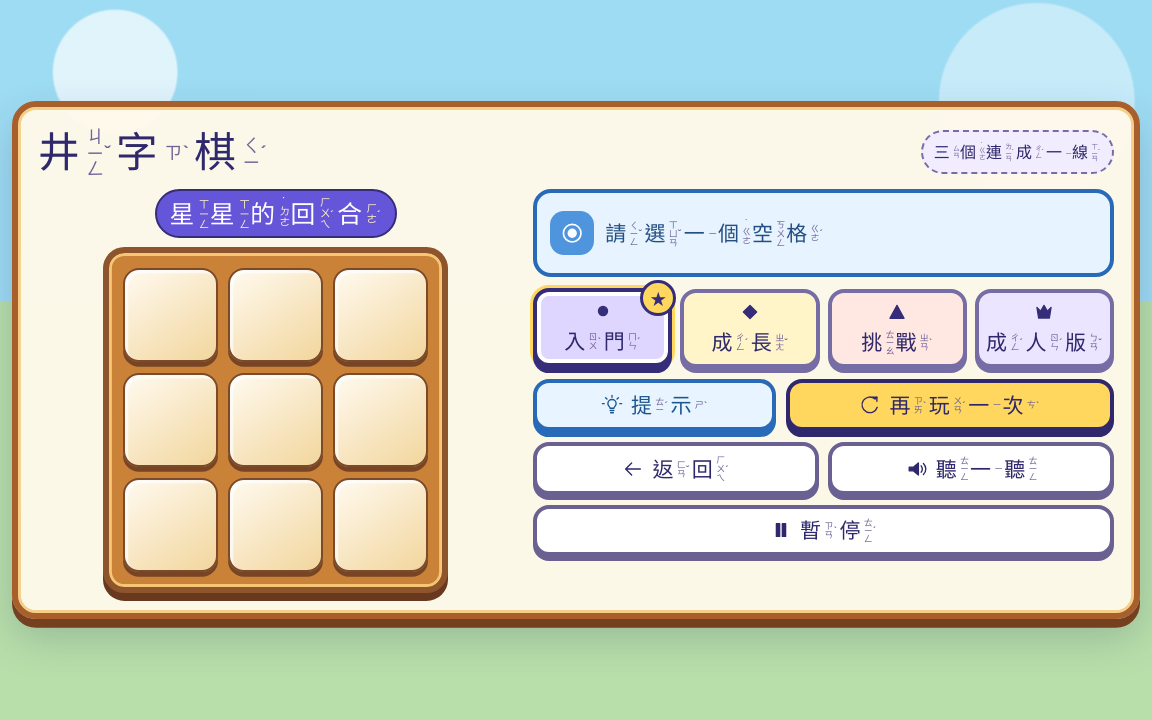
Test: ART-005-r03 井字棋正式可玩流程 › 提示依序重述、指出區域並標出候選格，但不代替落子
The width and height of the screenshot is (1152, 720).
Click the button named "提示": (655, 405) [533,379,776,431]
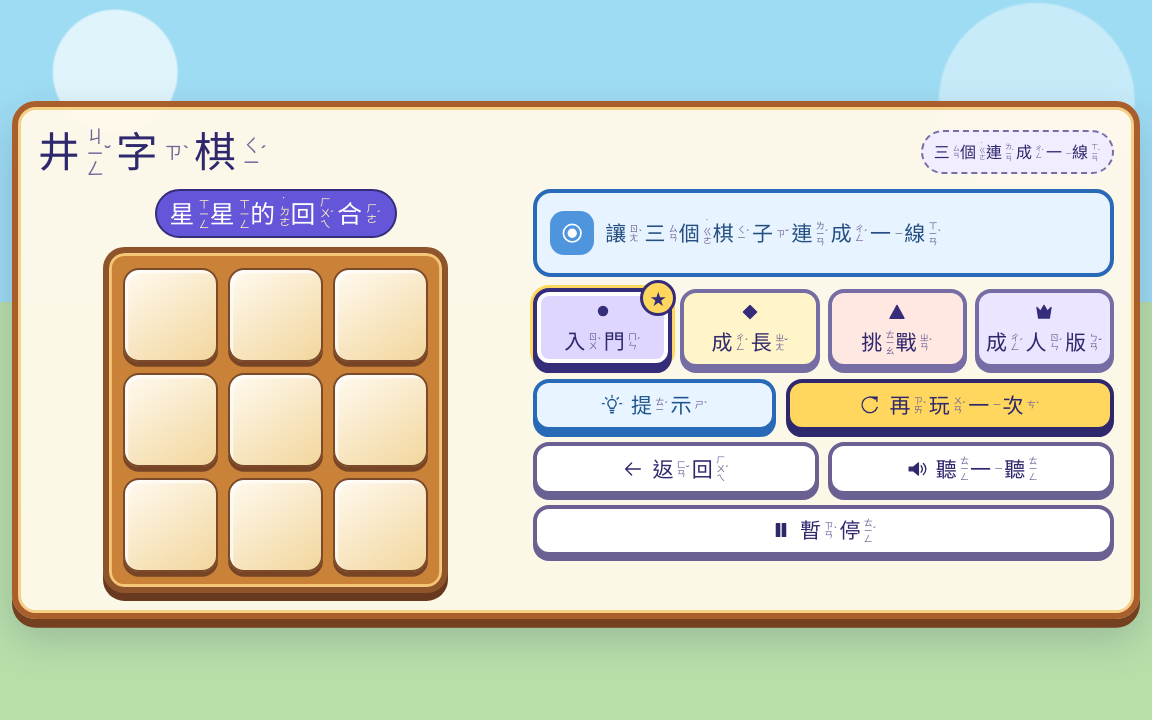
Check: the element named "讓三個棋子連成一線" is shown, box [605,217,941,247]
Click the button named "提示": (655, 405) [533,379,776,431]
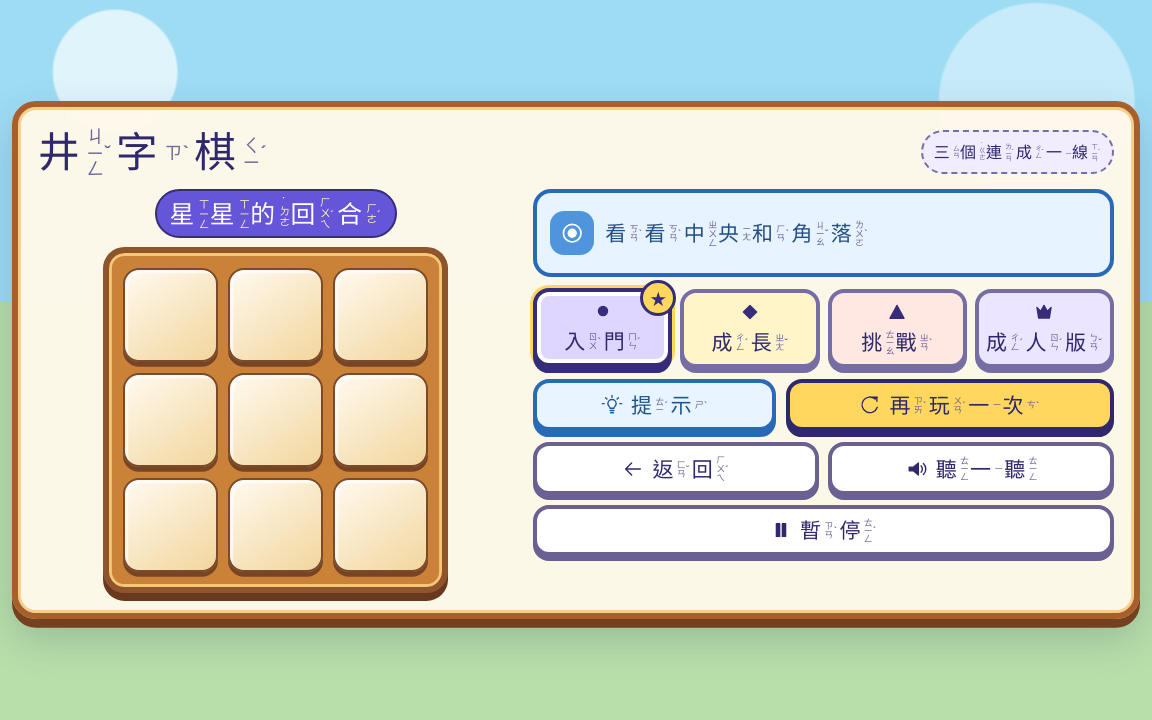
Check: the element named "看看中央和角落" is shown, box [605,219,867,247]
Click the button named "提示": (655, 405) [533,379,776,431]
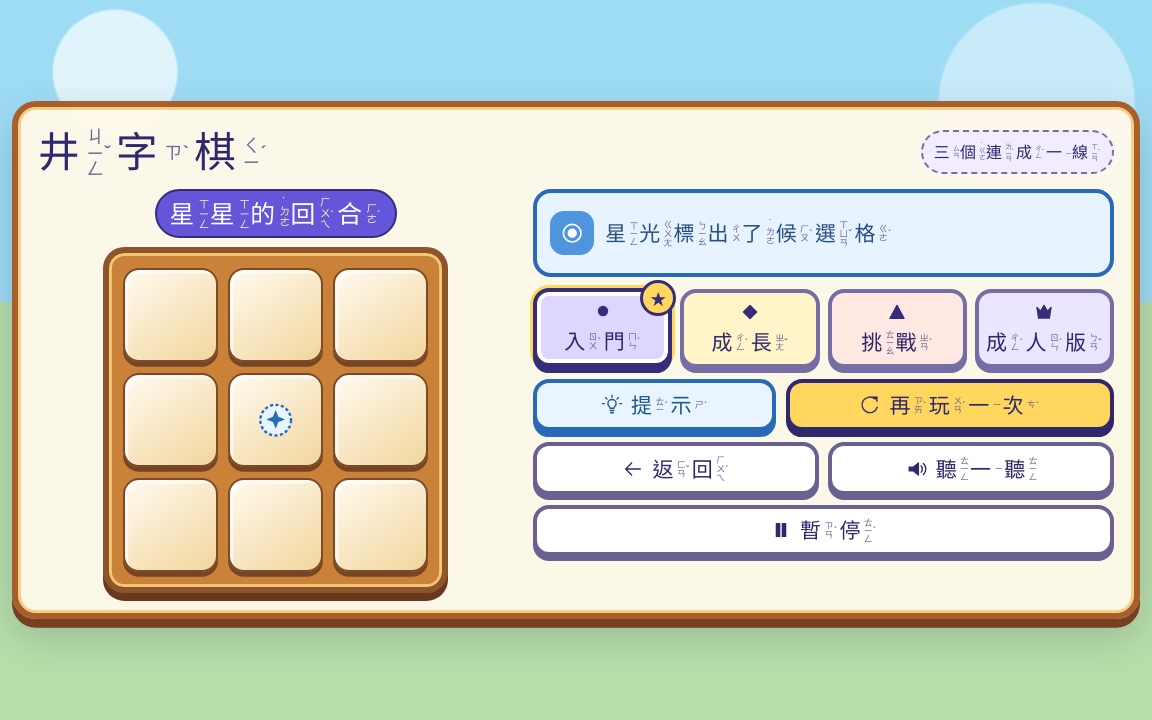
Check: the element named "星光標出了候選格" is shown, box [605,217,891,247]
Check: the number of icons with class "tictactoe-candidate-art" is 1, box [256,398,295,442]
